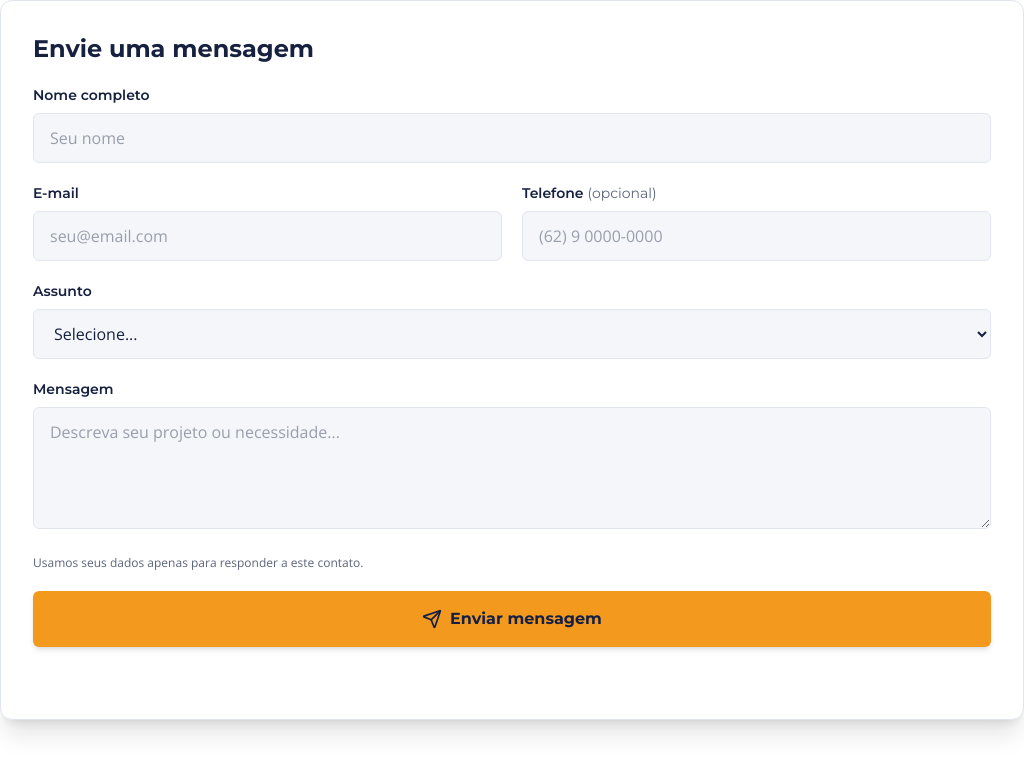
ContactForm › envia para o endpoint PHP e mostra a confirmação do servidor
Type "Maria Silva" into the field labelled "Nome completo" at (512, 138), box [33, 113, 991, 163]
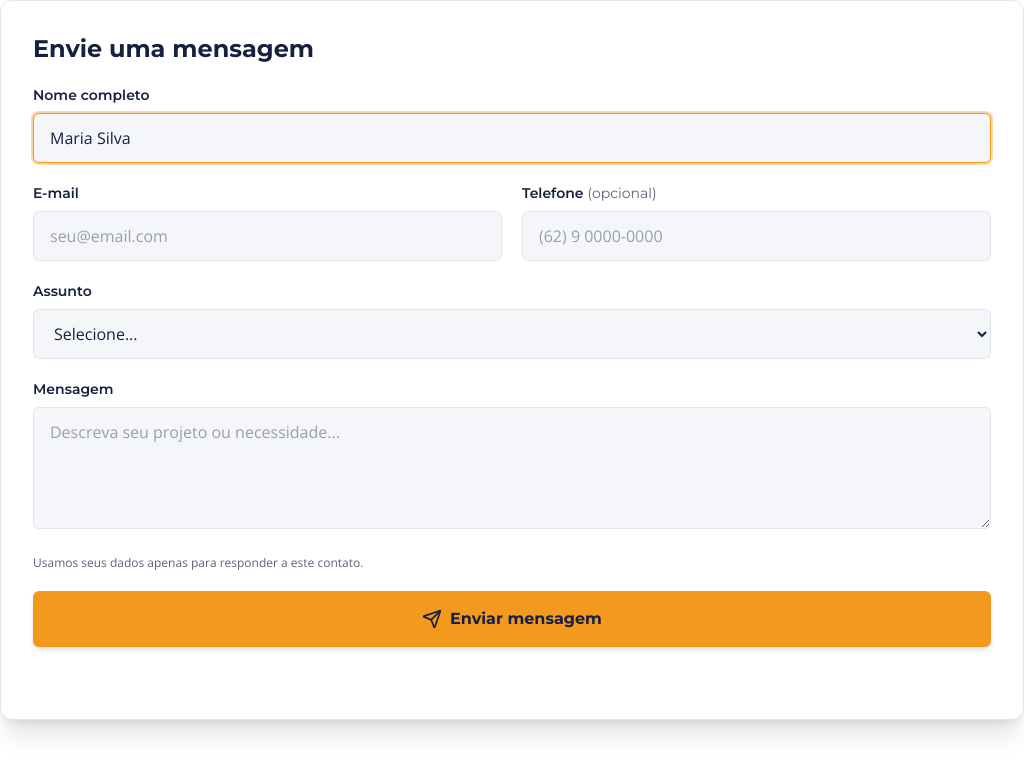
Type "maria@exemplo.com" into the field labelled "E-mail" at (268, 236), box [33, 211, 502, 261]
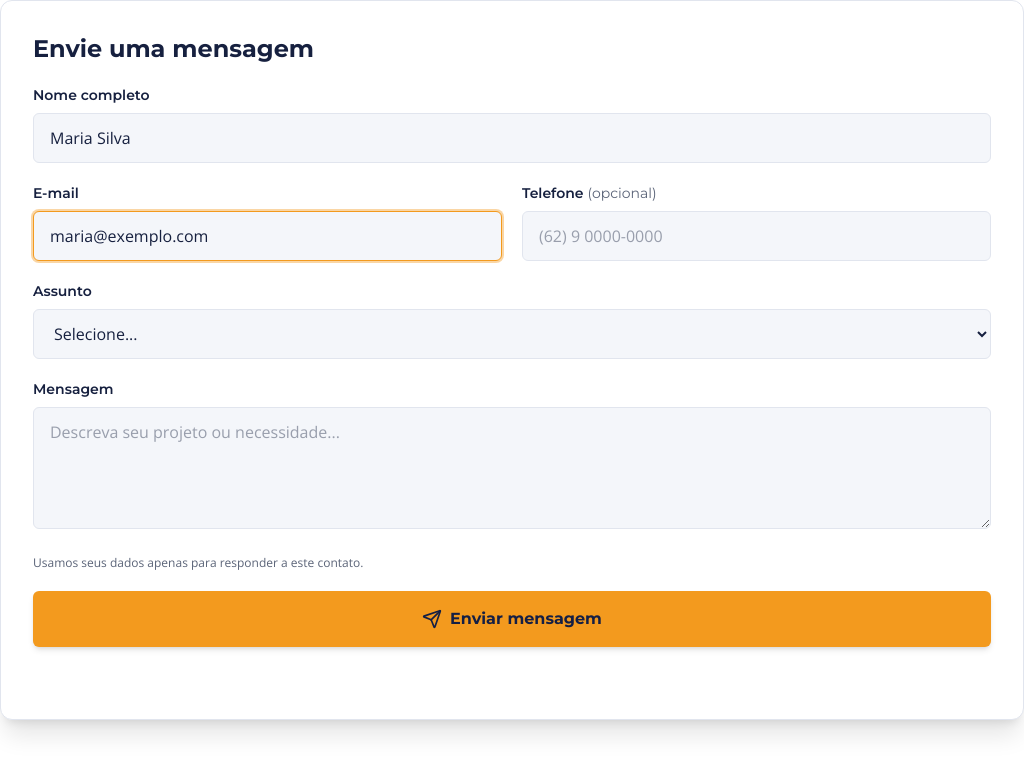
Select "Orçamento" in the dropdown labelled "Assunto" at (512, 334), box [33, 309, 991, 359]
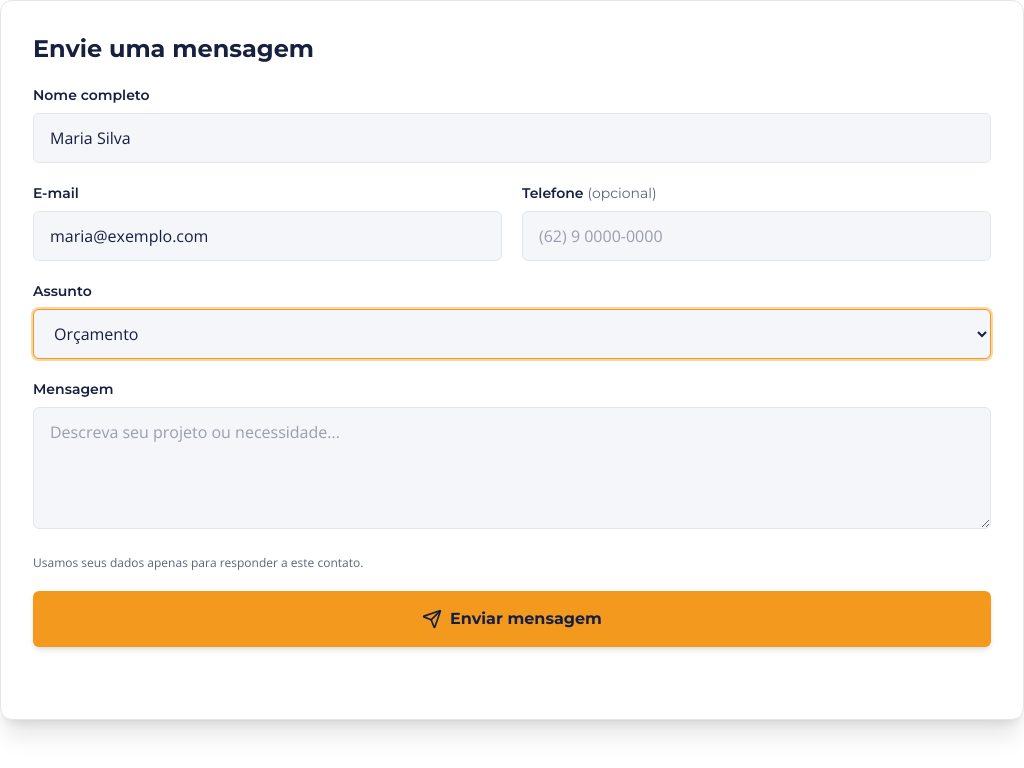
Type "Gostaria de um orçamento." into the text box labelled "Mensagem" at (512, 468), box [33, 407, 991, 529]
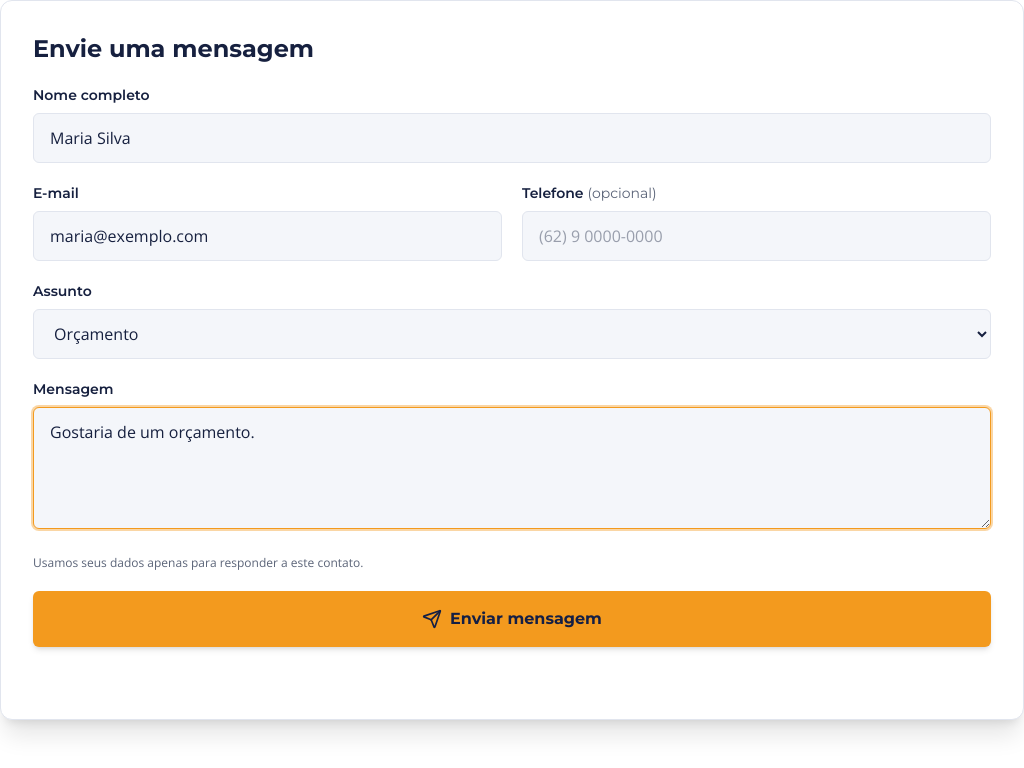
Click the button "Enviar mensagem" at (512, 619), box [33, 591, 991, 647]
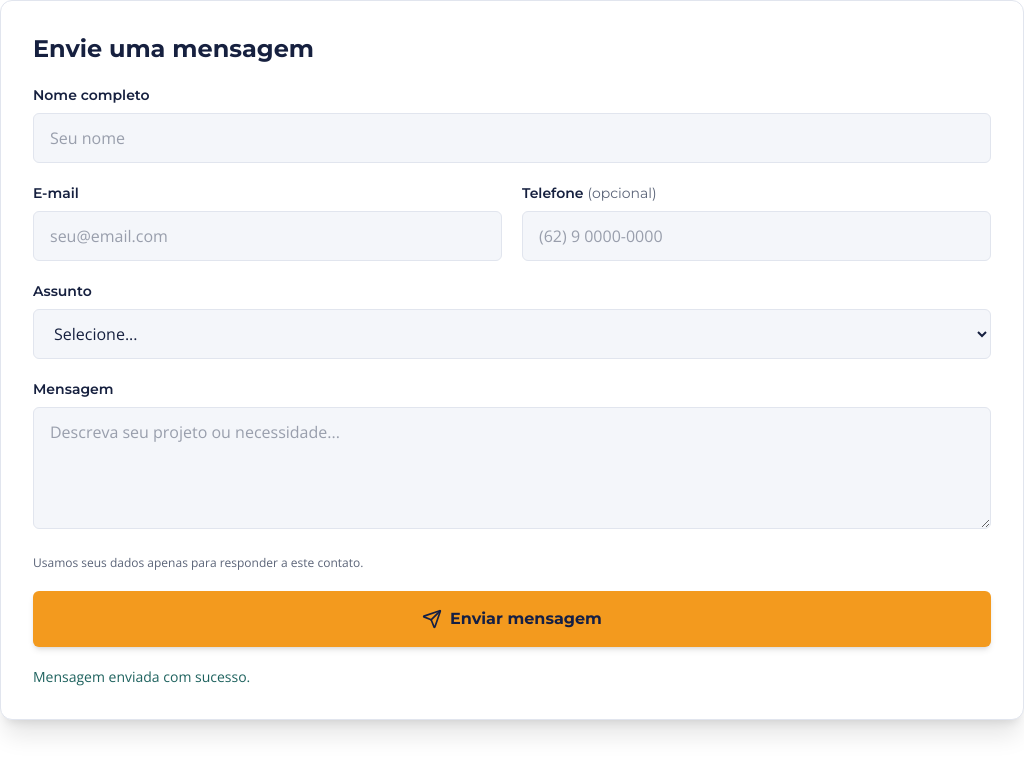
Check: the message reads "Mensagem enviada com sucesso.", box [33, 667, 250, 686]
